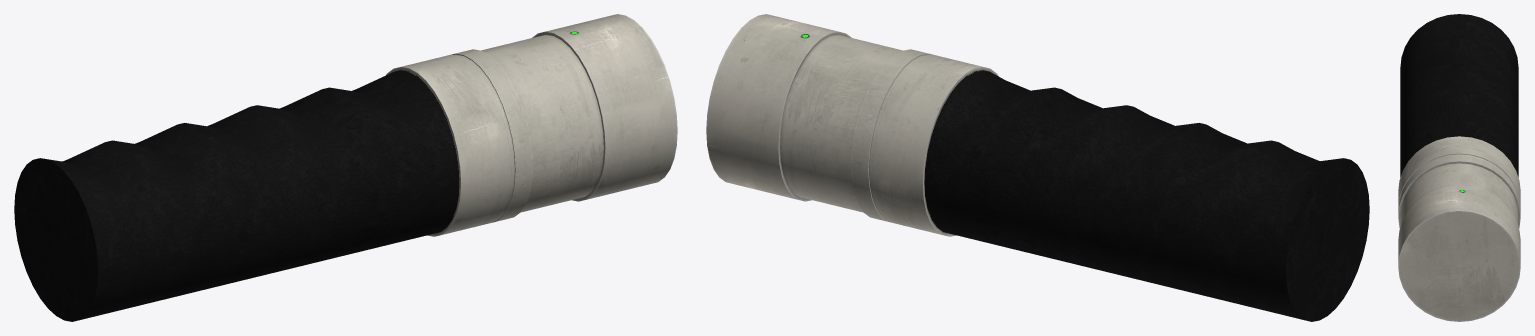
The model's file is grip_6_c_d.glb.
3 renders of one model, left to right at view 1: azimuth 30°, elevation 25°; view 2: azimuth 150°, elevation 25°; view 3: azimuth 270°, elevation 25°, orthographic. The views are drawn at different scales.
Visible parts, largest first — view 1: grip_6_c_d_lod0; view 2: grip_6_c_d_lod0; view 3: grip_6_c_d_lod0.
Part boxes in pixels (bbox=[...]): grip_6_c_d_lod0: bbox=[14, 14, 677, 321]; grip_6_c_d_lod0: bbox=[706, 14, 1369, 321]; grip_6_c_d_lod0: bbox=[1398, 14, 1520, 321].
Size of what is drawn, in the model's own units: 0.1055 by 0.0275 by 0.0275.
1 material, 1 textured.
